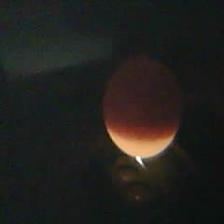fertile: (101, 56, 181, 158)
